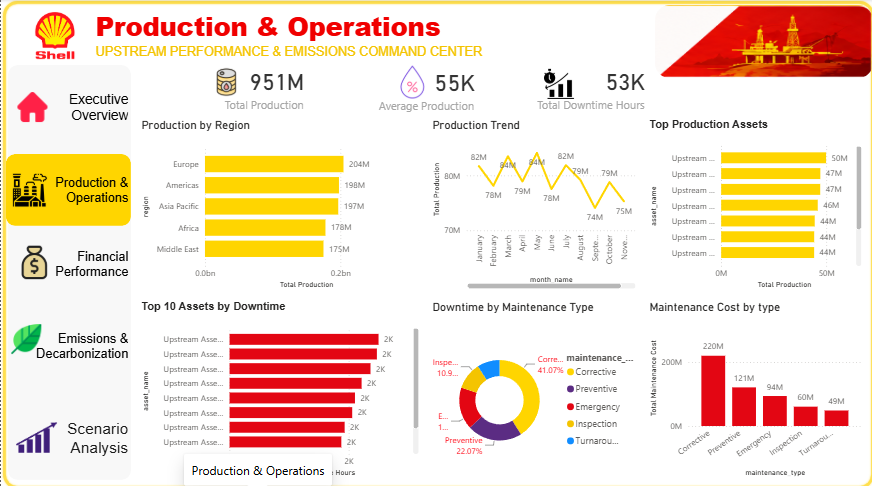

The dashboard page shown, as its layout file describes it:
{"tool":"powerbi","page":{"name":"Production & Operations","canvas":[1280,720],"ordinal":1},"visuals":[{"type":"shape","box":[0,0,1280.5,720],"z":0},{"type":"textbox","box":[133.2,8.8,781.5,98],"z":1000},{"type":"image","box":[24.9,0,108.3,106.8],"z":2000},{"type":"shape","box":[10.2,96.6,180,607.3],"z":3000},{"type":"actionButton","box":[0,106.8,190.2,103.9],"z":4000},{"type":"actionButton","box":[0,226.8,190.2,105.4],"z":5000},{"type":"actionButton","box":[1.5,335.1,188.8,105.4],"z":6000},{"type":"actionButton","box":[0,455.1,190.2,105.4],"z":7000},{"type":"actionButton","box":[0,586.8,190.2,111.2],"z":8000},{"type":"image","box":[19,136.1,54.1,43.9],"z":9000},{"type":"image","box":[8.8,253.2,64.4,52.7],"z":10000},{"type":"image","box":[24.9,360,48.3,51.2],"z":11000},{"type":"image","box":[0,475.6,73.2,43.9],"z":12000},{"type":"image","box":[19,619,65.9,45.4],"z":13000},{"type":"image","box":[961.5,0,319,106.8],"z":14000},{"type":"clusteredBarChart","title":"Top Production Assets","fields":{"Category":["dim_asset.asset_name"],"Y":["All_Measures.Total Production"]},"box":[943.9,174.1,320.5,254.6],"z":15000},{"type":"lineChart","title":"Production Trend","fields":{"Category":["dim_date.month_name"],"Y":["All_Measures.Total Production"]},"box":[626.3,174.1,307.3,254.6],"z":16000},{"type":"clusteredBarChart","title":"Production by Region","fields":{"Category":["dim_asset.region"],"Y":["All_Measures.Total Production"]},"box":[200.5,174.1,415.6,254.6],"z":17000},{"type":"advanceCardE03760C5AB684758B56AA29F9E6C257B","fields":{"mainMeasure":["All_Measures.Total Downtime Hours"]},"box":[722.9,96.6,234.1,71.7],"z":18000},{"type":"clusteredColumnChart","title":" Maintenance Cost by type","fields":{"Category":["fact_maintenance.maintenance_type"],"Y":["All_Measures.Total Maintenance Cost"]},"box":[943.9,440.5,320.5,263.4],"z":19000},{"type":"donutChart","title":"Downtime by Maintenance Type","fields":{"Category":["fact_maintenance.maintenance_type"],"Y":["All_Measures.Total Downtime Hours"]},"box":[626.3,440.5,307.3,263.4],"z":20000},{"type":"clusteredBarChart","title":"Top 10 Assets by Downtime","fields":{"Category":["dim_asset.asset_name"],"Y":["All_Measures.Total Downtime Hours"]},"box":[200.5,440.5,415.6,263.4],"z":21000},{"type":"advanceCardE03760C5AB684758B56AA29F9E6C257B","fields":{"mainMeasure":["All_Measures.Average Production"]},"box":[473.4,96.6,234.1,74.6],"z":22000},{"type":"advanceCardE03760C5AB684758B56AA29F9E6C257B","fields":{"mainMeasure":["All_Measures.Total Production"]},"box":[223.9,96.6,234.1,71.7],"z":23000}]}

Visuals, with their boxes in screenshot pixels (x1, y1, x2, y2), scaled from the page's 1280x720 canvas onto the 872x486 screenshot:
shape: {"x1": 0, "y1": 0, "x2": 871, "y2": 485}
textbox: {"x1": 91, "y1": 6, "x2": 623, "y2": 72}
image: {"x1": 17, "y1": 0, "x2": 91, "y2": 72}
shape: {"x1": 7, "y1": 65, "x2": 130, "y2": 475}
actionButton: {"x1": 0, "y1": 72, "x2": 130, "y2": 142}
actionButton: {"x1": 0, "y1": 153, "x2": 130, "y2": 224}
actionButton: {"x1": 1, "y1": 226, "x2": 130, "y2": 297}
actionButton: {"x1": 0, "y1": 307, "x2": 130, "y2": 378}
actionButton: {"x1": 0, "y1": 396, "x2": 130, "y2": 471}
image: {"x1": 13, "y1": 92, "x2": 50, "y2": 122}
image: {"x1": 6, "y1": 171, "x2": 50, "y2": 206}
image: {"x1": 17, "y1": 243, "x2": 50, "y2": 278}
image: {"x1": 0, "y1": 321, "x2": 50, "y2": 351}
image: {"x1": 13, "y1": 418, "x2": 58, "y2": 448}
image: {"x1": 655, "y1": 0, "x2": 871, "y2": 72}
"Top Production Assets" clusteredBarChart: {"x1": 643, "y1": 118, "x2": 861, "y2": 289}
"Production Trend" lineChart: {"x1": 427, "y1": 118, "x2": 636, "y2": 289}
"Production by Region" clusteredBarChart: {"x1": 137, "y1": 118, "x2": 420, "y2": 289}
advanceCardE03760C5AB684758B56AA29F9E6C257B - All_Measures.Total Downtime Hours: {"x1": 492, "y1": 65, "x2": 652, "y2": 114}
" Maintenance Cost by type" clusteredColumnChart: {"x1": 643, "y1": 297, "x2": 861, "y2": 475}
"Downtime by Maintenance Type" donutChart: {"x1": 427, "y1": 297, "x2": 636, "y2": 475}
"Top 10 Assets by Downtime" clusteredBarChart: {"x1": 137, "y1": 297, "x2": 420, "y2": 475}
advanceCardE03760C5AB684758B56AA29F9E6C257B - All_Measures.Average Production: {"x1": 323, "y1": 65, "x2": 482, "y2": 116}
advanceCardE03760C5AB684758B56AA29F9E6C257B - All_Measures.Total Production: {"x1": 153, "y1": 65, "x2": 312, "y2": 114}
